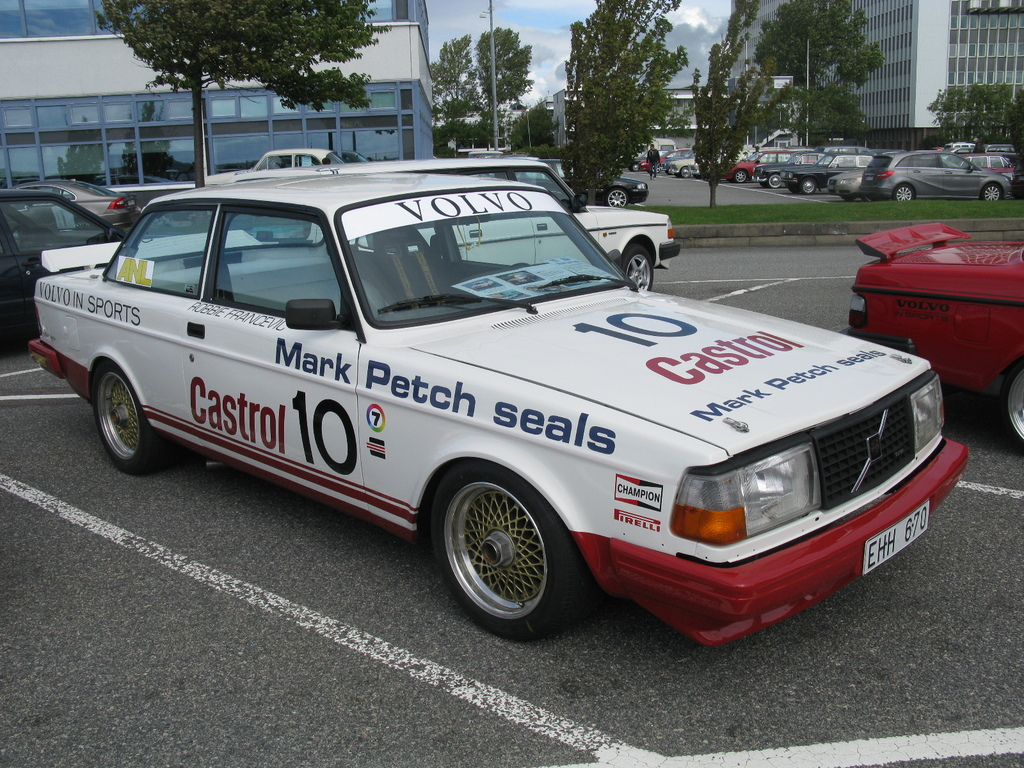Car: (0, 142, 1023, 442)
